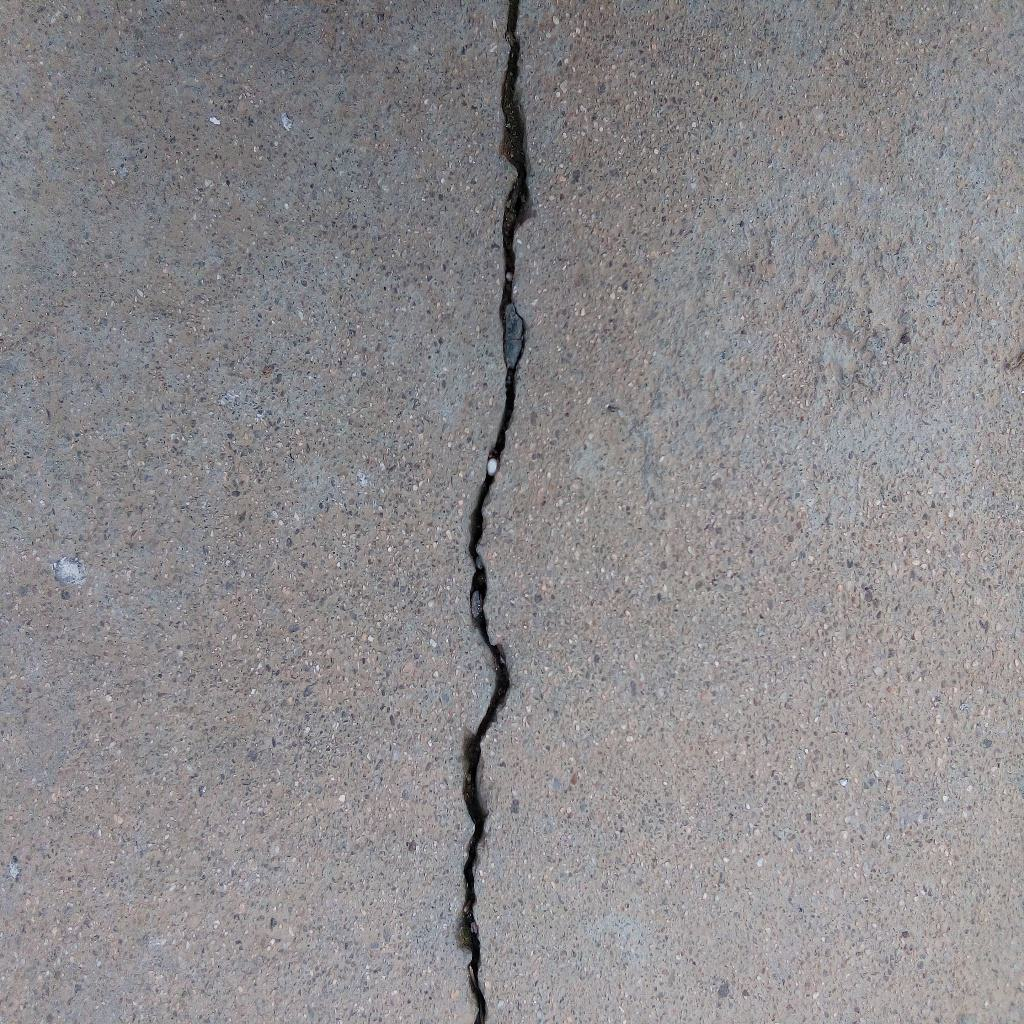Crack: (453, 1, 536, 1024)
